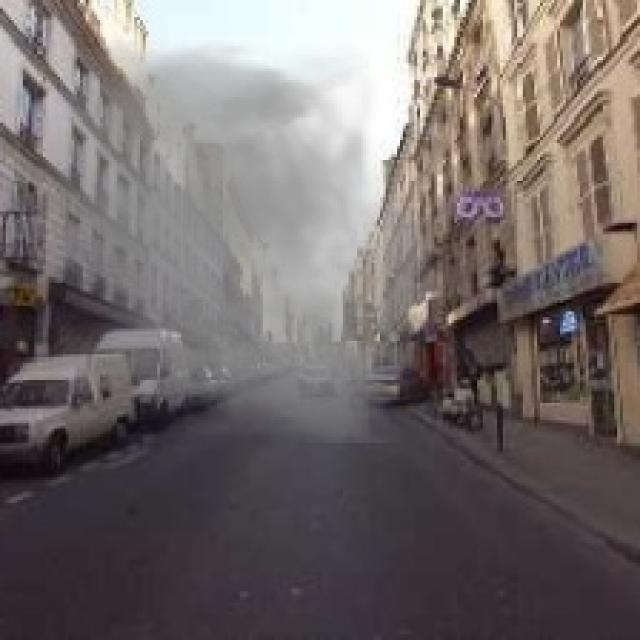Smoke: (46, 40, 463, 443)
